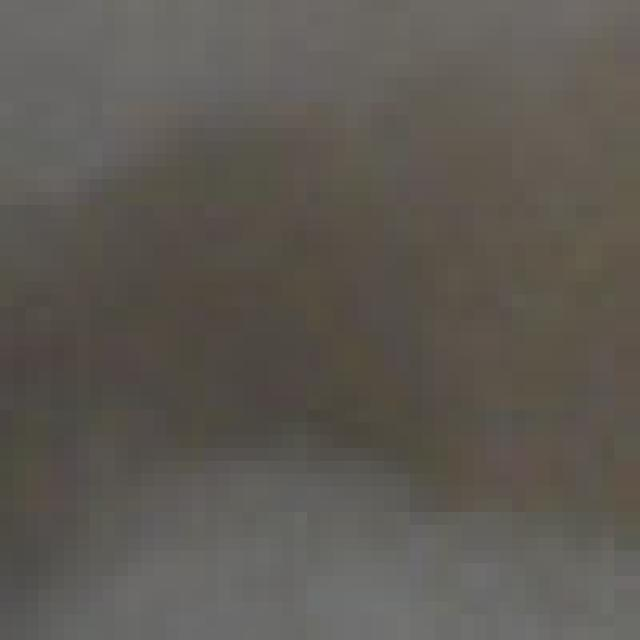fire: (44, 40, 640, 621)
